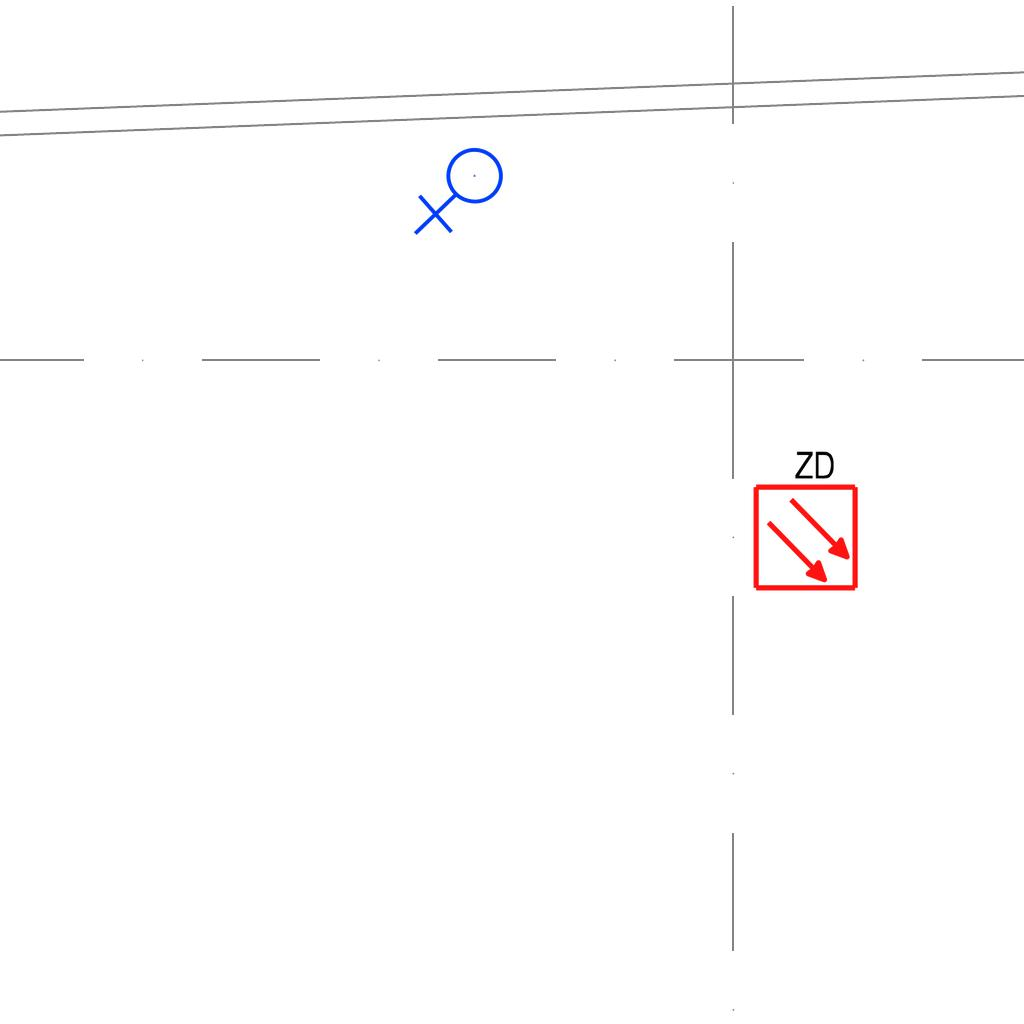Elektroanschluss_allgemein_230V_Geraeteanschlussdose_230V: (413, 146, 512, 240)
ZD_Melder_in_Zwischendecke_mit_Revisionsoeffnung_mind_40_x_40_cm: (747, 444, 861, 593)
